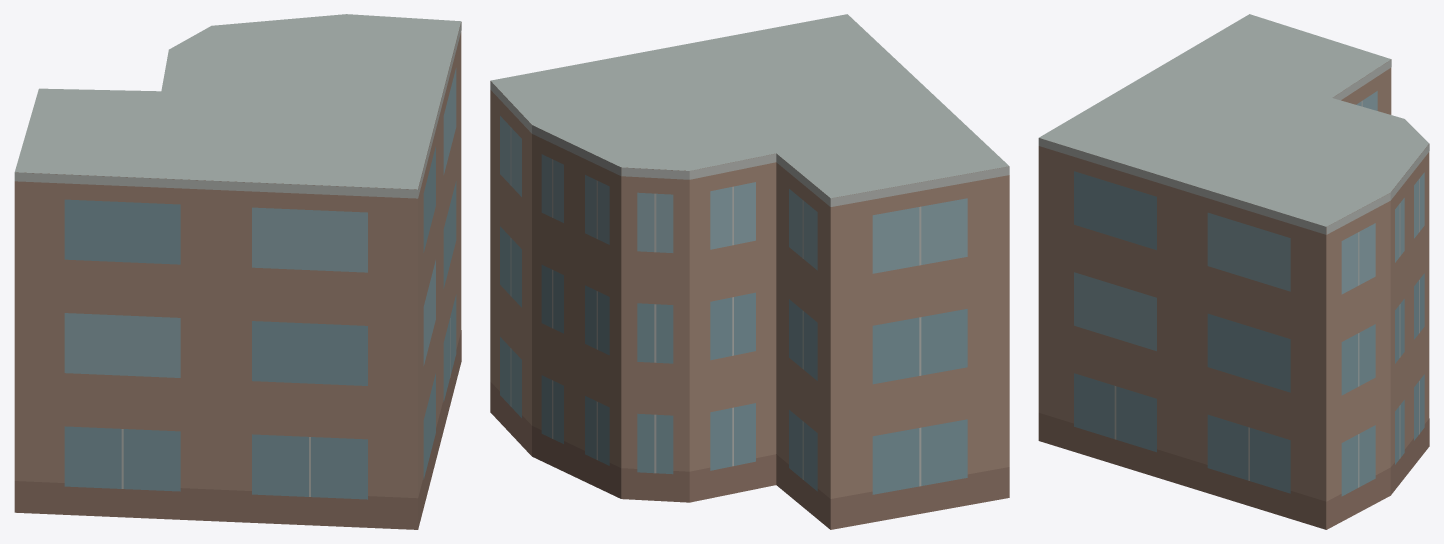
Rendered from survey-upis-32807327.glb.
3 views of the same model, side by side, from view 1: azimuth 30°, elevation 25°; view 2: azimuth 150°, elevation 25°; view 3: azimuth 270°, elevation 25° (orthographic). The views are drawn at different scales.
Parts seen in each view (by area): view 1: survey-upis-32807327.tmp; view 2: survey-upis-32807327.tmp; view 3: survey-upis-32807327.tmp.
Boxes of the visible parts, bbox=[...] form: survey-upis-32807327.tmp: bbox=[14, 14, 461, 529]; survey-upis-32807327.tmp: bbox=[490, 14, 1009, 529]; survey-upis-32807327.tmp: bbox=[1038, 14, 1429, 529].
Size of the model in its own units: 13.79 by 9.15 by 10.7.
